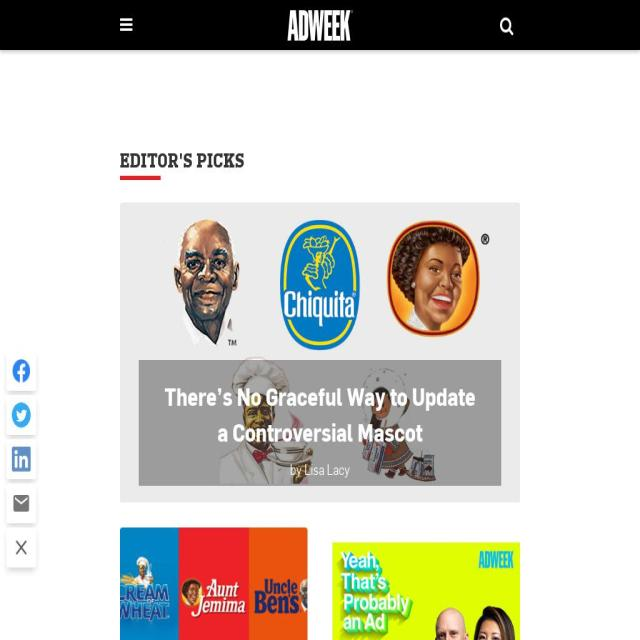button: (158, 378, 482, 450), (119, 527, 308, 640), (158, 459, 482, 479), (286, 8, 354, 44), (6, 351, 36, 392), (6, 395, 36, 436), (6, 439, 36, 480), (6, 484, 36, 524)
heading: (158, 378, 482, 450), (120, 148, 244, 172)
iframe: (332, 542, 520, 640)
image: (120, 202, 520, 502), (119, 526, 308, 640), (286, 8, 354, 44), (12, 535, 30, 561), (12, 358, 30, 384), (12, 402, 30, 428), (12, 491, 30, 517), (12, 447, 30, 472)
